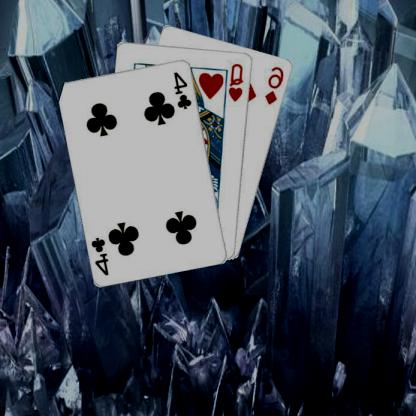4C: (173, 69, 195, 110), (91, 234, 112, 276)
6D: (264, 64, 287, 106)
QH: (228, 60, 246, 102)
